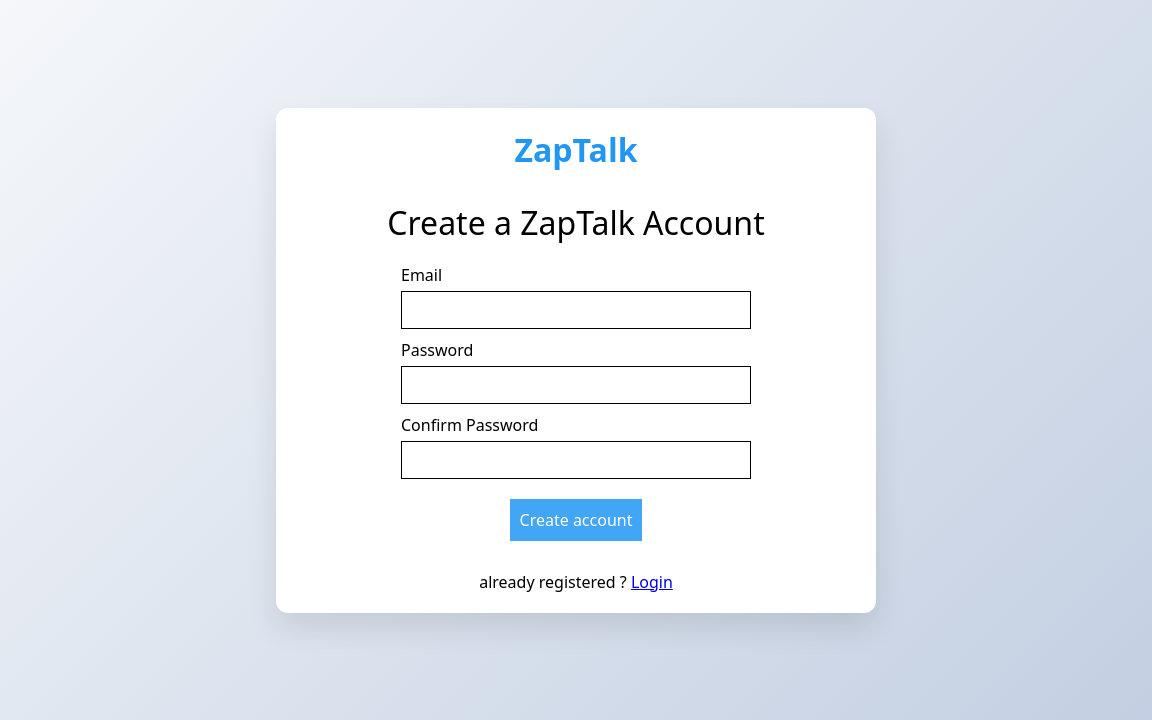
Test: Signup Component › Validation › Validate that pass must be 6 characters at minimum.
This screenshot has width=1152, height=720.
Type "test@test.com" into the field labelled "Email" at (576, 310), box [401,290,751,328]
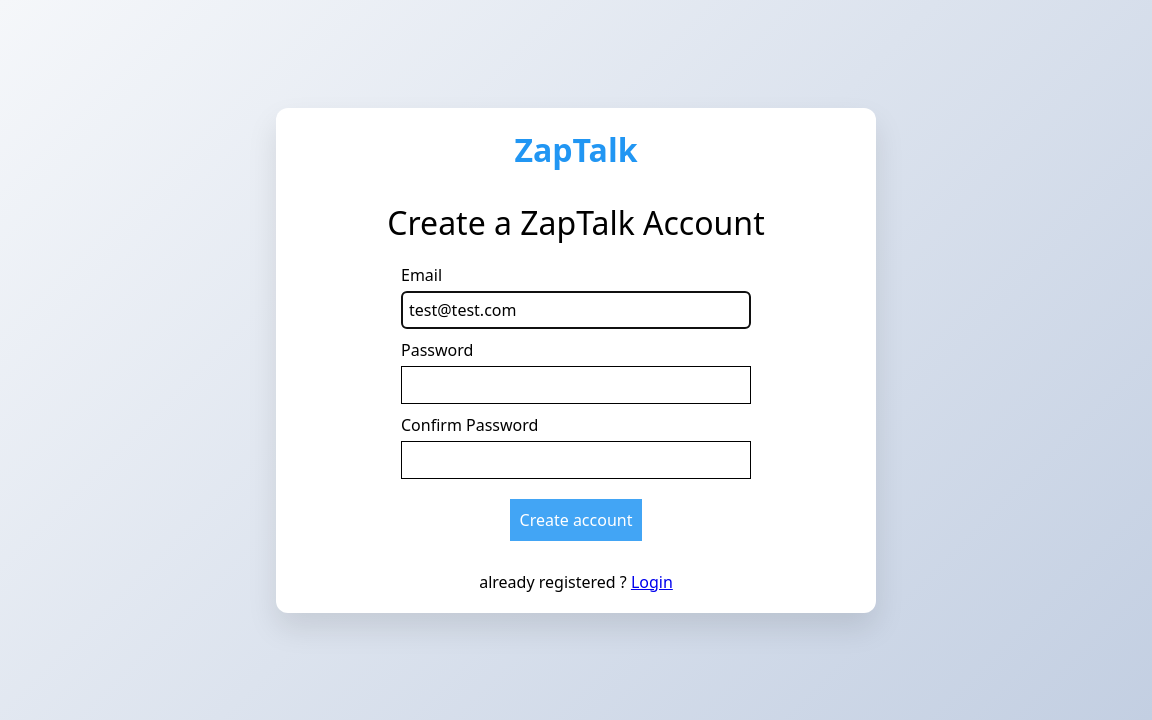
Type "444a2" into the password field labelled "Password" at (576, 384), box [401,366,751,404]
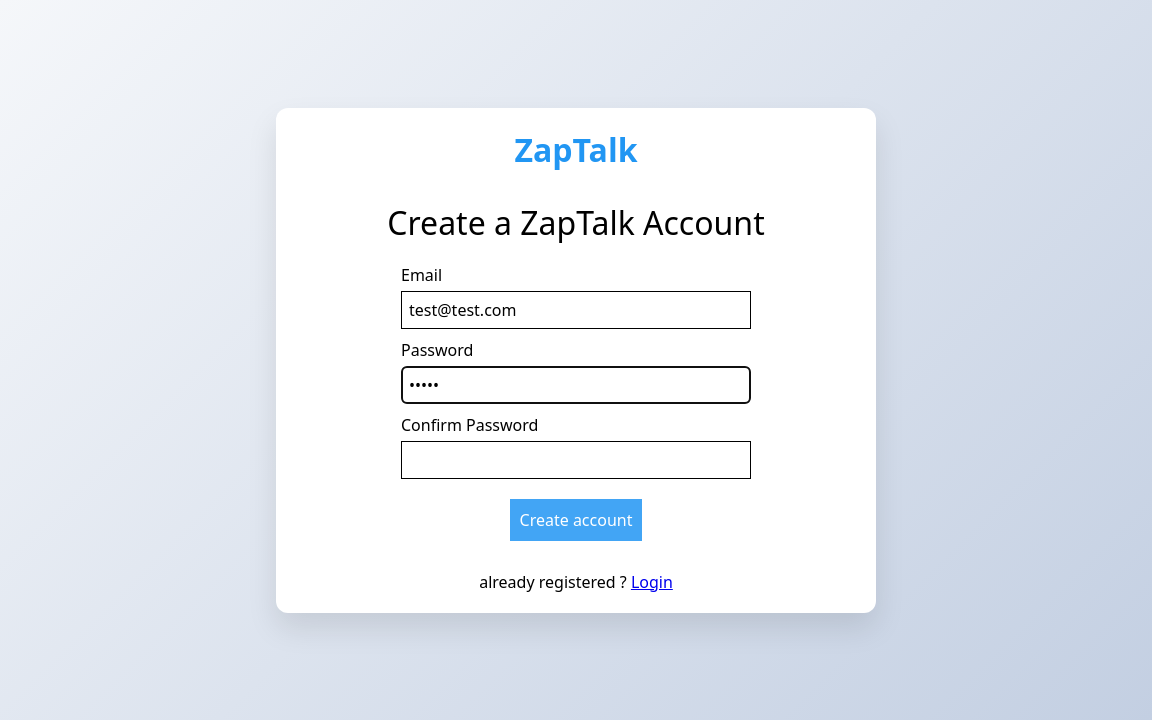
Type "444a2" into the password field labelled "Confirm Password" at (576, 460), box [401,440,751,478]
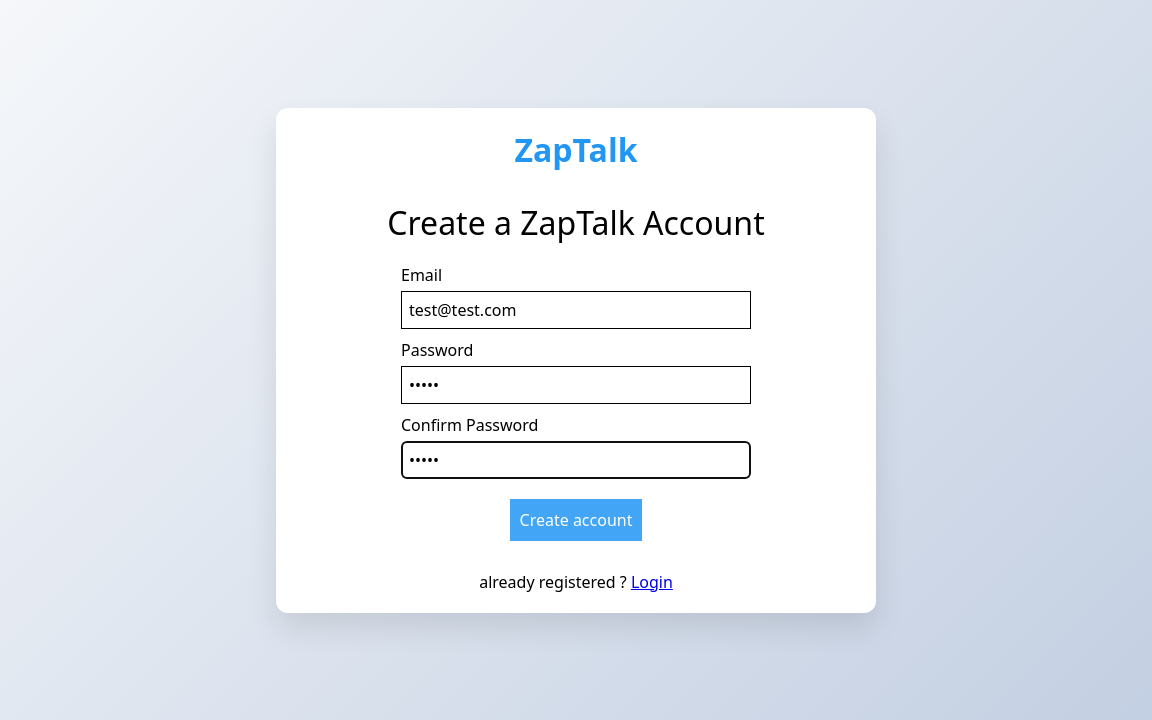
Click the button "Create account" at (576, 520), box [510,498,642,540]
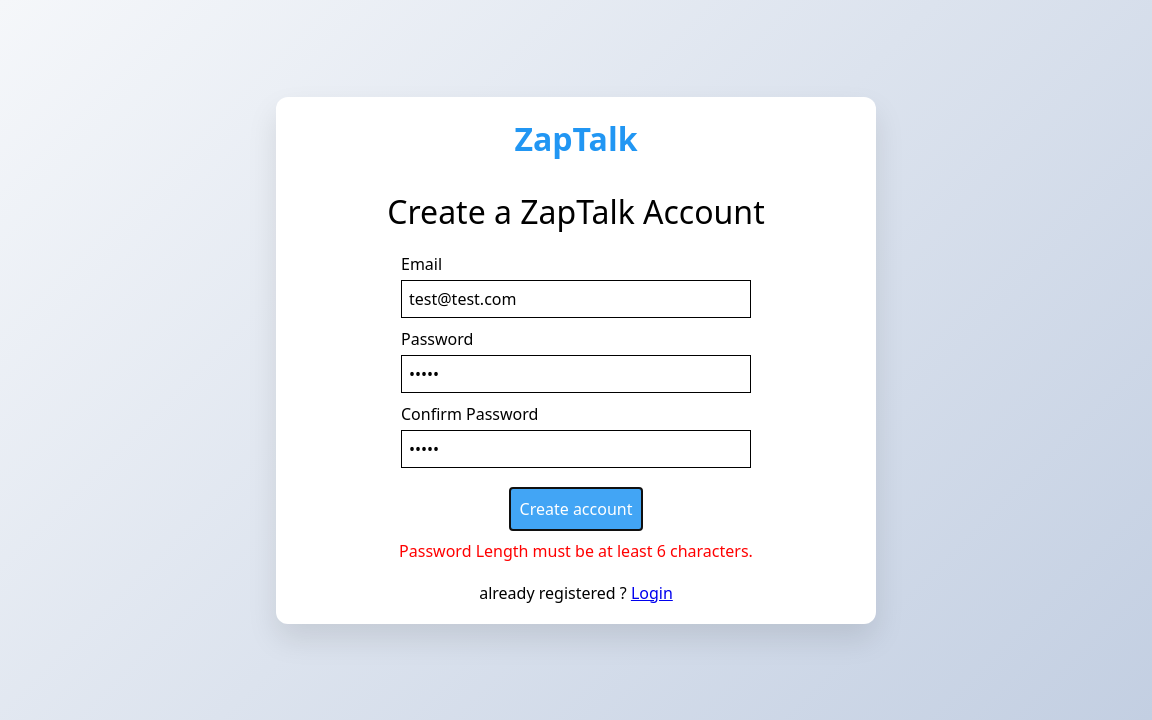
Result: the text "Password Length must be at least 6 characters." is shown at [399,540,753,562]
